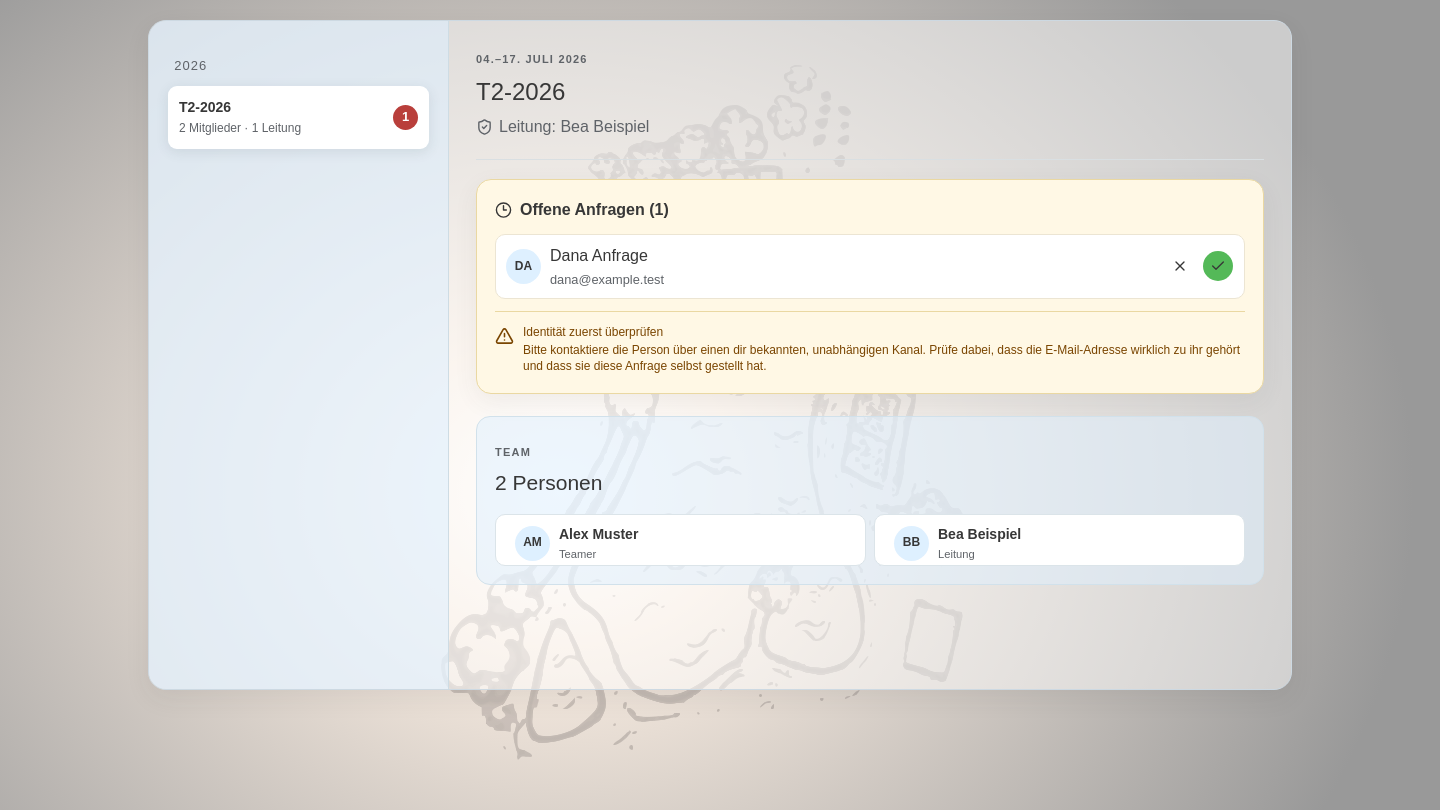
Test: admin team overview › prominently repeats the email identity warning and resolves a request explicitly
Expected: the message shows "Bitte kontaktiere die Person über einen dir bekannten, unabhängigen Kanal. Prüfe dabei, dass die E-Mail-Adresse wirklich zu ihr gehört und dass sie diese Anfrag", x1=523 y1=343 x2=1240 y2=373
Click the button named "Dana Anfrage annehmen".
click(1218, 266)  # box x1=1202 y1=250 x2=1234 y2=282
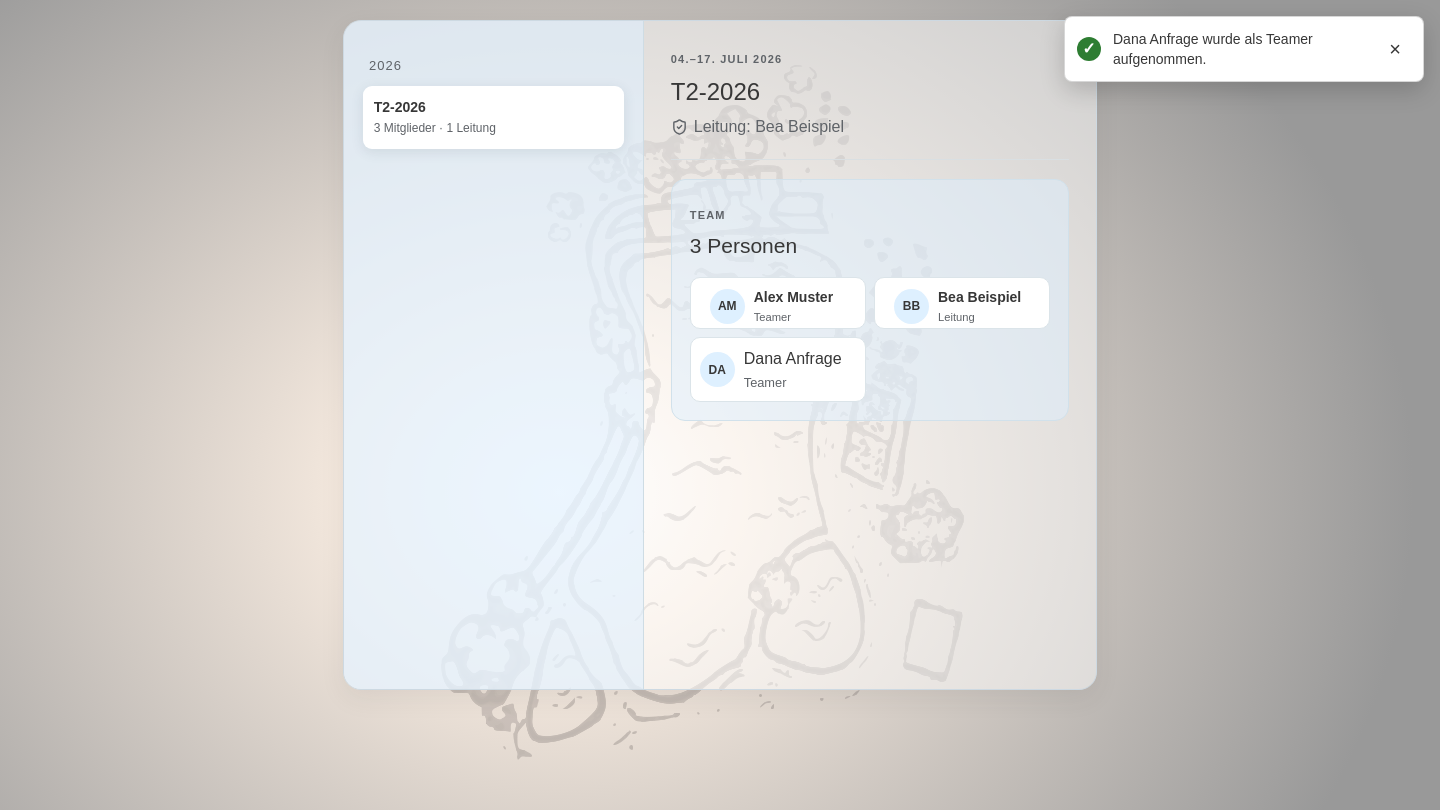
Expected: the heading "3 Personen" is shown, x1=690 y1=230 x2=797 y2=261
Expected: the element with test id "pending-request-panel" is gone
Expected: the message is gone
